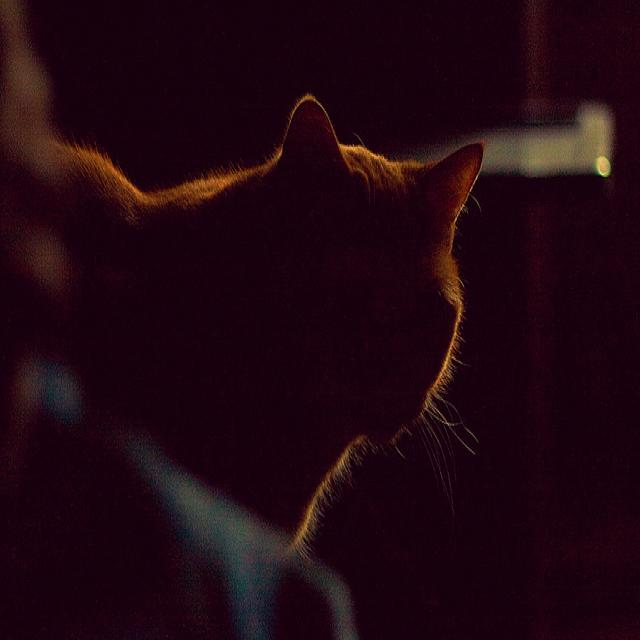Cat: (0, 90, 518, 564)
